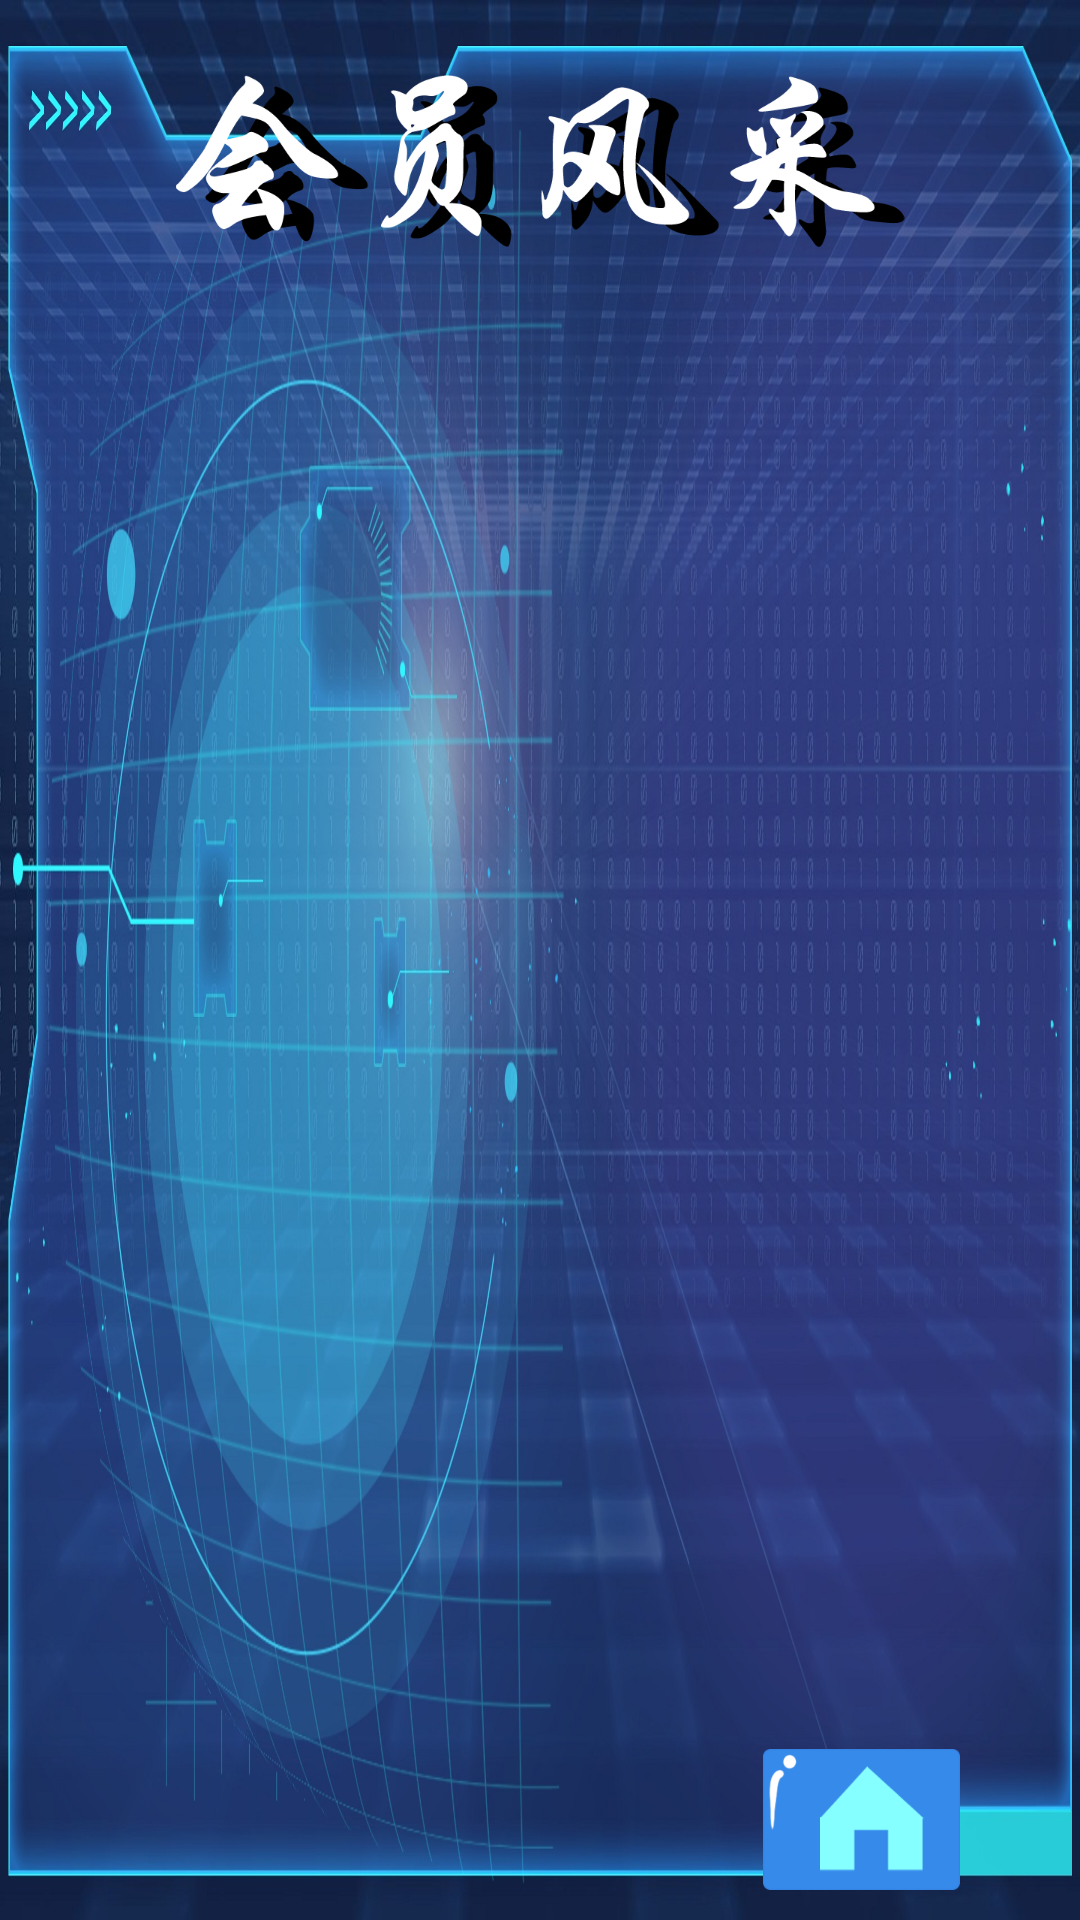

Screen size 1080 x 1920. Icon name, then its center in pixels as (x,y):
home: (861,1819)
